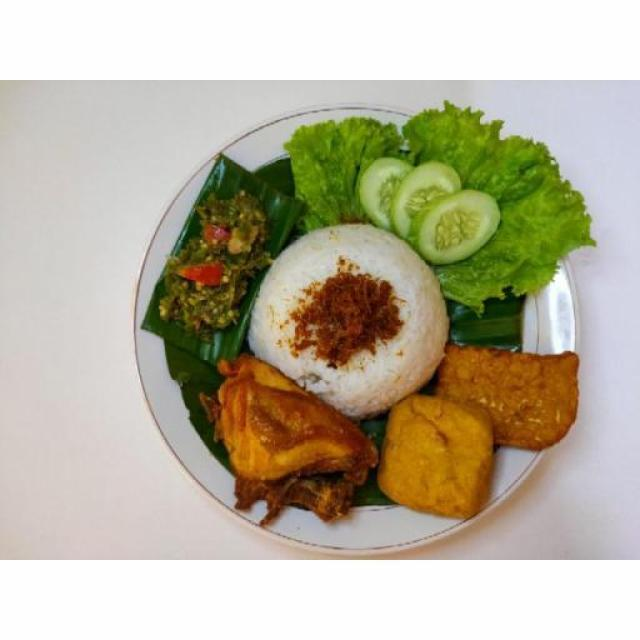ayam goreng: (201, 359, 375, 525)
nasi: (252, 223, 448, 419)
sambal: (160, 182, 262, 332)
tahu goreng: (373, 396, 503, 520)
tempe goreng: (434, 346, 577, 450)
